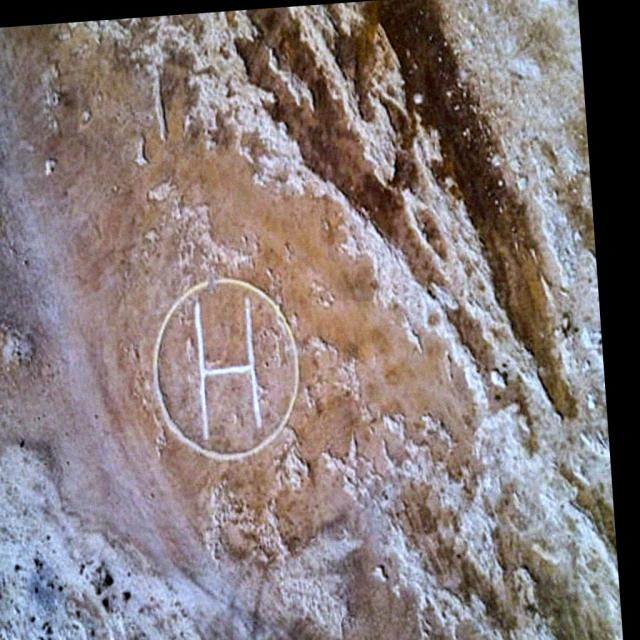helipad: (148, 271, 303, 464)
